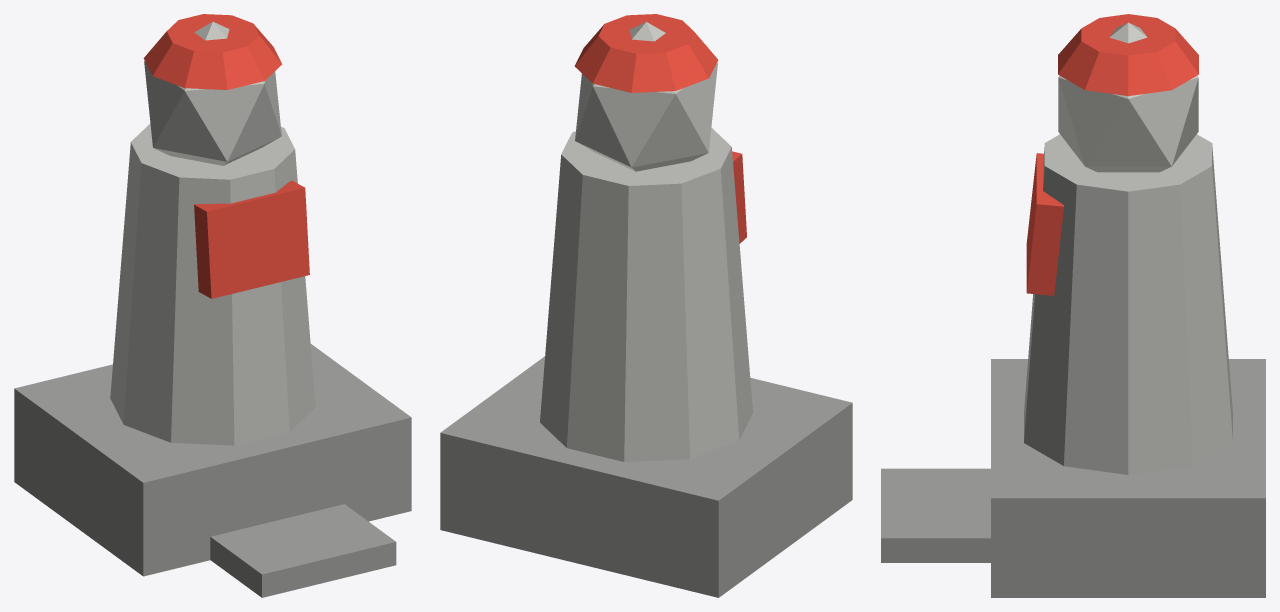
The model's file is jizo.glb.
3 views of the same model, side by side, from view 1: azimuth 30°, elevation 25°; view 2: azimuth 150°, elevation 25°; view 3: azimuth 270°, elevation 25° (orthographic). The views are drawn at different scales.
Visible parts, largest first — view 1: jizo; view 2: jizo; view 3: jizo.
Boxes of the visible parts, box(x1,y1,x2,y2) form: jizo: box(14, 14, 411, 597); jizo: box(440, 14, 852, 597); jizo: box(881, 14, 1265, 597).
Bounding box in the file's own units: 0.6 × 1.01 × 0.7.
